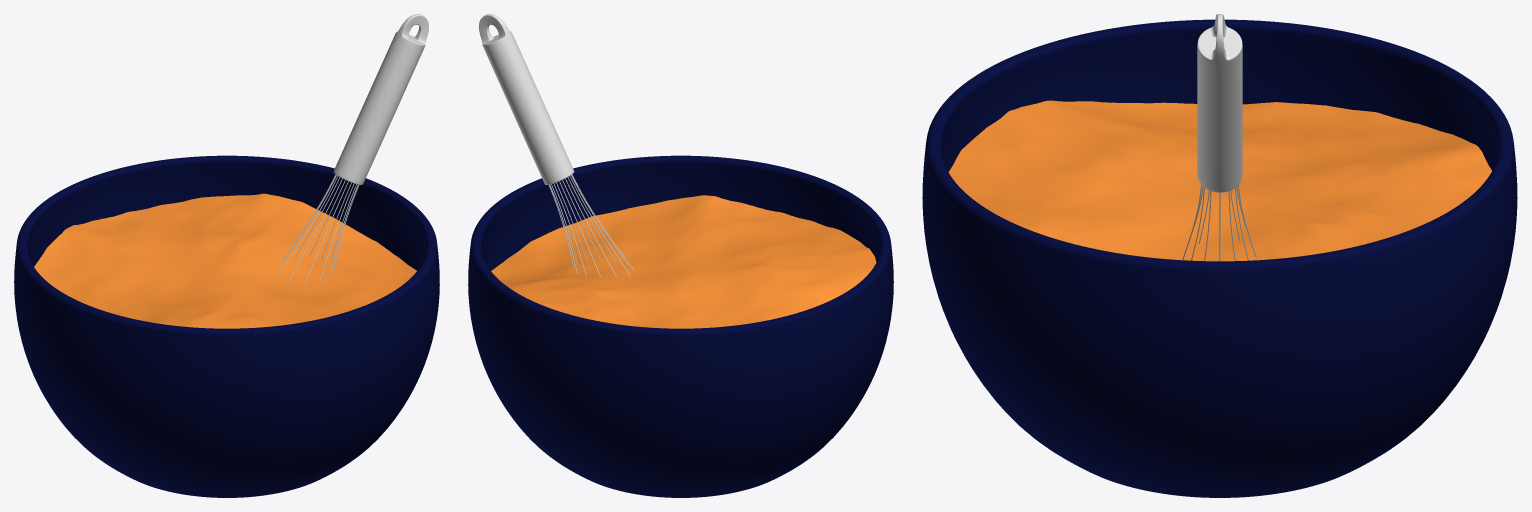
Rendered from mexerTijela.fbx.
3 views of the same model, side by side, from view 1: azimuth 30°, elevation 25°; view 2: azimuth 150°, elevation 25°; view 3: azimuth 270°, elevation 25° (orthographic). The views are drawn at different scales.
Visible parts, largest first — view 1: Bowl_Sphere, Plane, whisk; view 2: Bowl_Sphere, Plane, whisk; view 3: Bowl_Sphere, Plane, whisk.
Part boxes in pixels (x1,y1,x2,y2): Bowl_Sphere: [14, 155, 439, 497]; Plane: [34, 193, 416, 328]; whisk: [277, 14, 428, 282]; Bowl_Sphere: [468, 155, 893, 497]; Plane: [491, 195, 876, 328]; whisk: [479, 14, 633, 277]; Bowl_Sphere: [922, 19, 1517, 497]; Plane: [948, 100, 1491, 261]; whisk: [1182, 14, 1256, 261].
Bounding box in the file's own units: 573 × 550 × 548.
